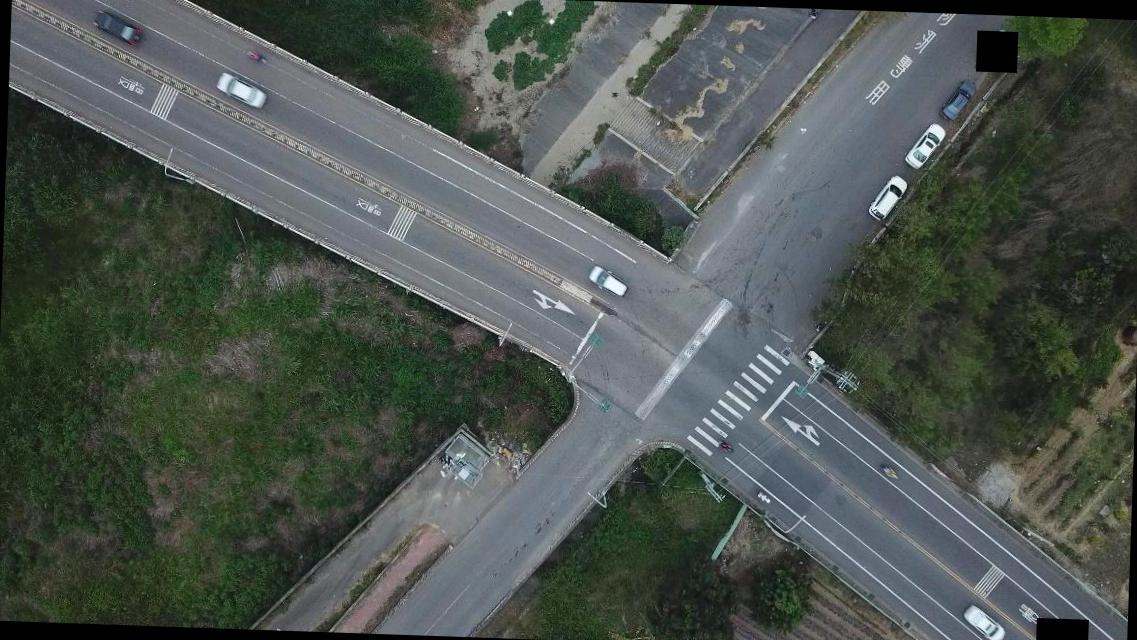vehicle: (869, 172, 910, 222), (217, 70, 268, 110), (92, 8, 142, 47), (904, 124, 946, 169), (961, 603, 1007, 639), (939, 79, 978, 121), (587, 267, 629, 297)
